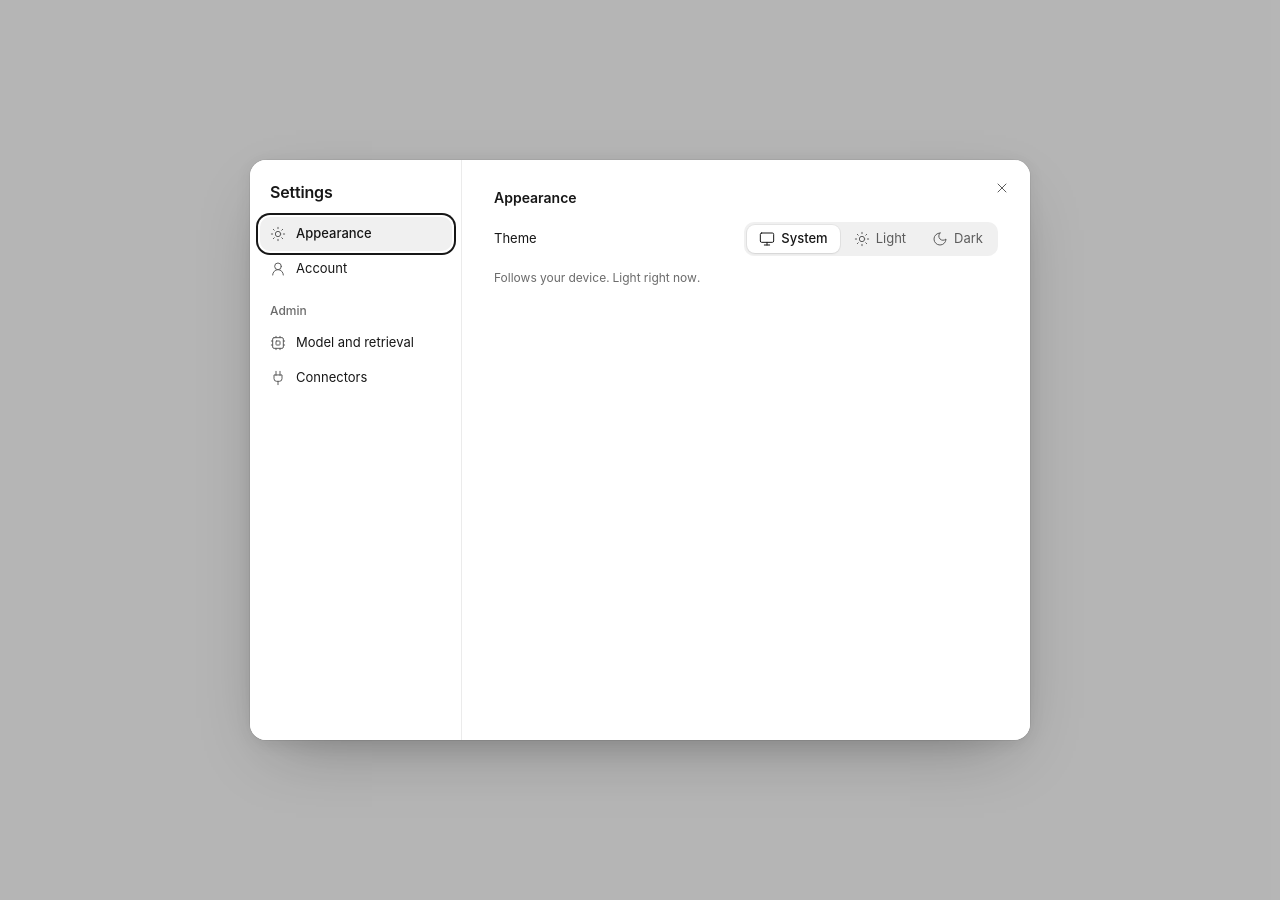
it: SettingsDialog › lists connectors as a grouped list with status pills
Click the button "Connectors". click: (356, 378)
box: [260,361,452,395]
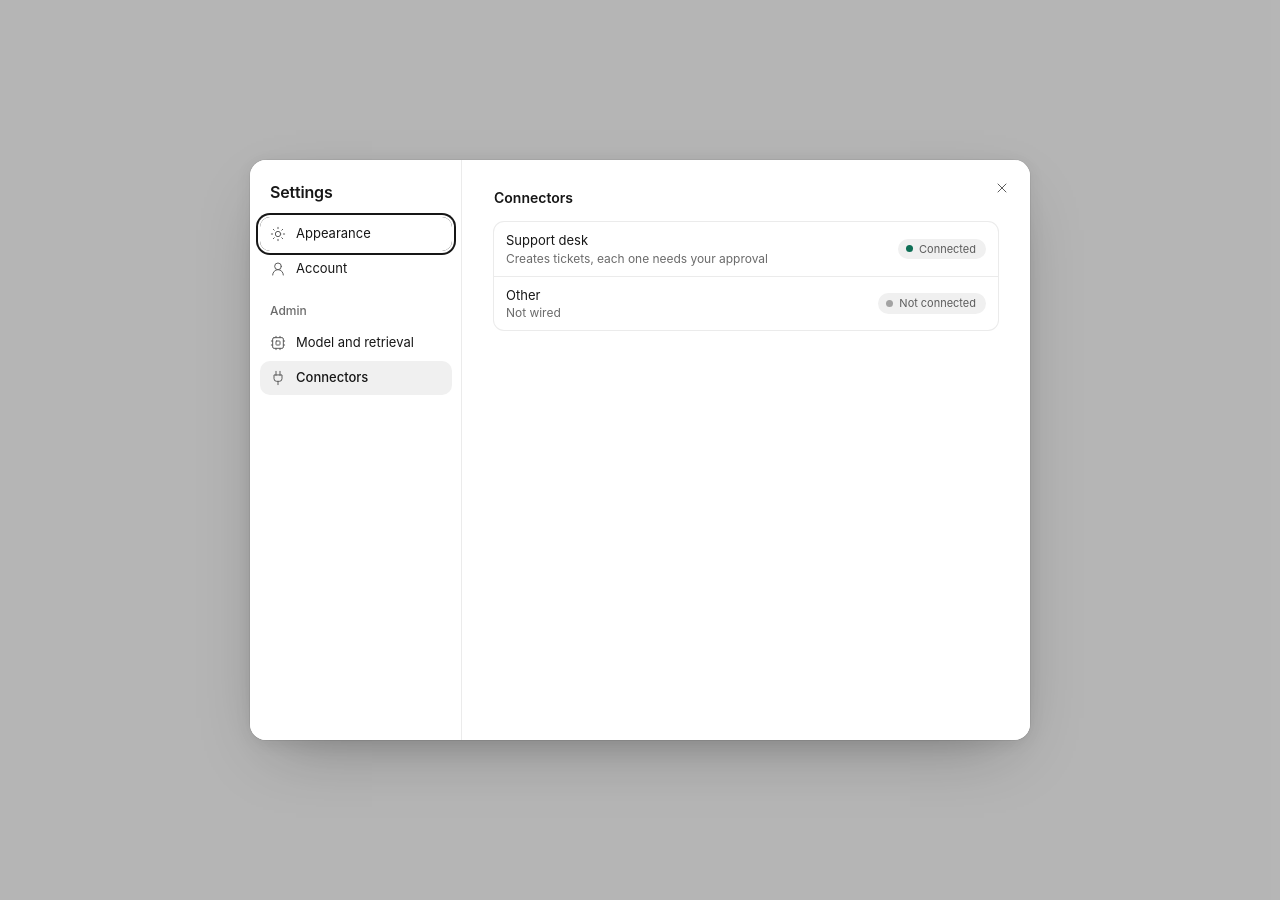
Check: the text "Creates tickets, each one needs your approval" is shown, box [506,250,768,266]
Check: the text "Connected" is shown, box [898,238,986,259]
Check: the text "Not connected" is shown, box [878,293,986,314]
